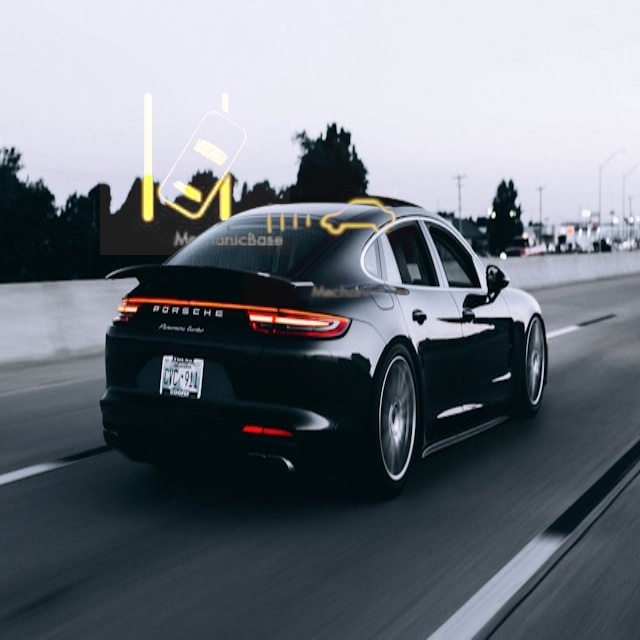symbol: (100, 65, 290, 255), (244, 133, 417, 306)
